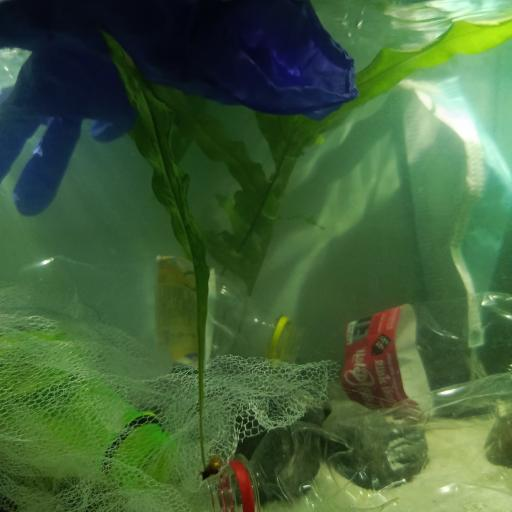glove: (0, 0, 357, 218)
mask: (398, 67, 512, 348)
net: (2, 290, 343, 512)
plastic_bottle: (198, 371, 512, 511), (2, 251, 299, 367), (1, 328, 170, 482), (302, 292, 512, 407)
